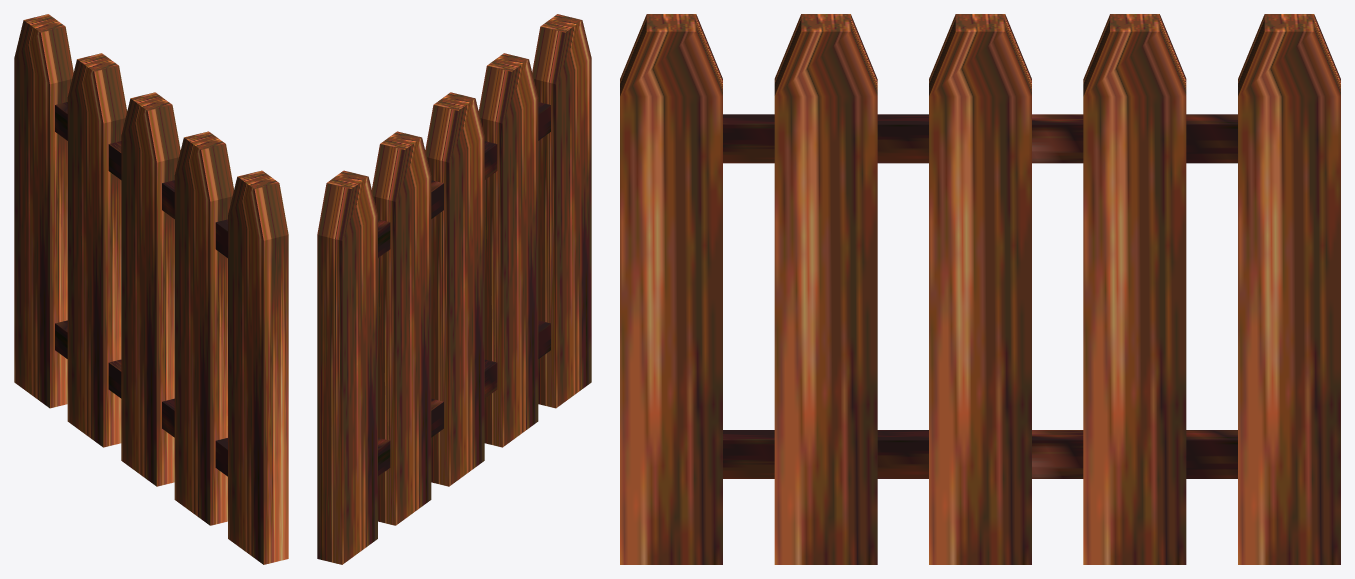
The model's file is Fence.fbx.
3 views of the same model, side by side, from view 1: azimuth 30°, elevation 25°; view 2: azimuth 150°, elevation 25°; view 3: azimuth 270°, elevation 25° (orthographic). The views are drawn at different scales.
Visible parts, largest first — view 1: Fence; view 2: Fence; view 3: Fence.
Boxes of the visible parts, x1,y1,x2,y2 form: Fence: (14,14,288,564); Fence: (317,14,591,564); Fence: (620,14,1340,564).
Size of the model in its own units: 16.13 by 228 by 279.
